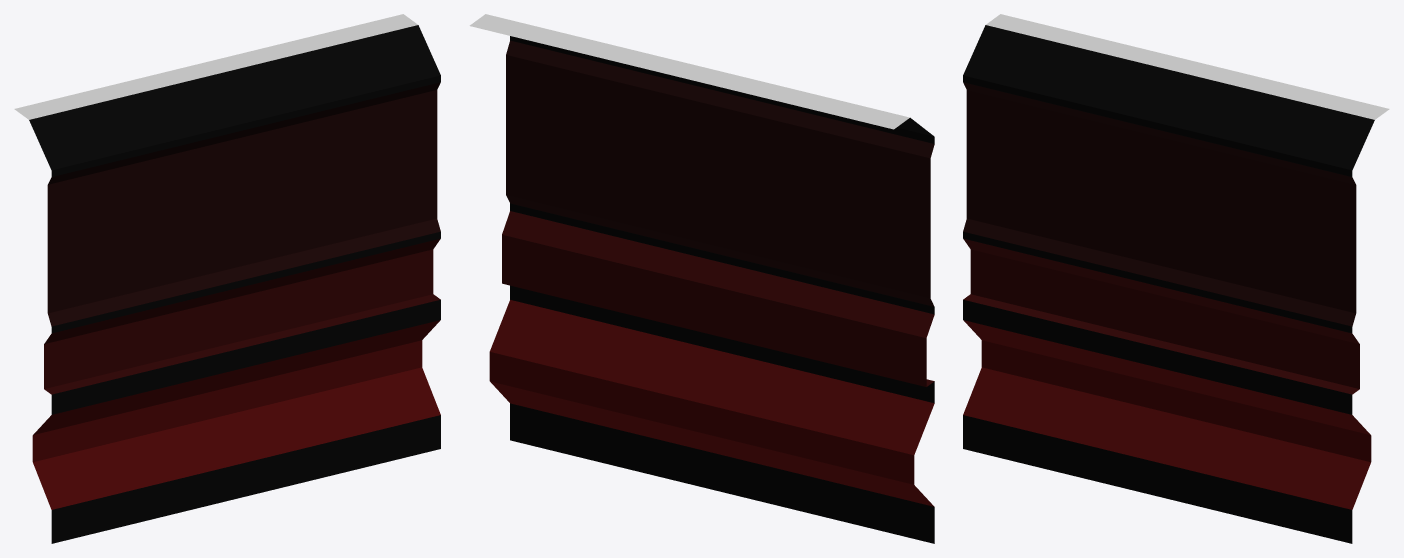
Rendered from Wall_3m.fbx.
3 renders of one model, left to right at view 1: azimuth 30°, elevation 25°; view 2: azimuth 150°, elevation 25°; view 3: azimuth 330°, elevation 25°, orthographic. The views are drawn at different scales.
Visible parts, largest first — view 1: Wall_3, Wall_3_Dark_Top; view 2: Wall_3, Wall_3_Dark_Top; view 3: Wall_3, Wall_3_Dark_Top.
Part boxes in pixels (box(x1,y1,x2,y2)): Wall_3: box(29, 25, 440, 543); Wall_3_Dark_Top: box(14, 14, 417, 119); Wall_3: box(489, 36, 934, 543); Wall_3_Dark_Top: box(469, 14, 909, 129); Wall_3: box(963, 25, 1374, 543); Wall_3_Dark_Top: box(986, 14, 1389, 119).
Bounding box in the file's own units: 300 × 300 × 50.
